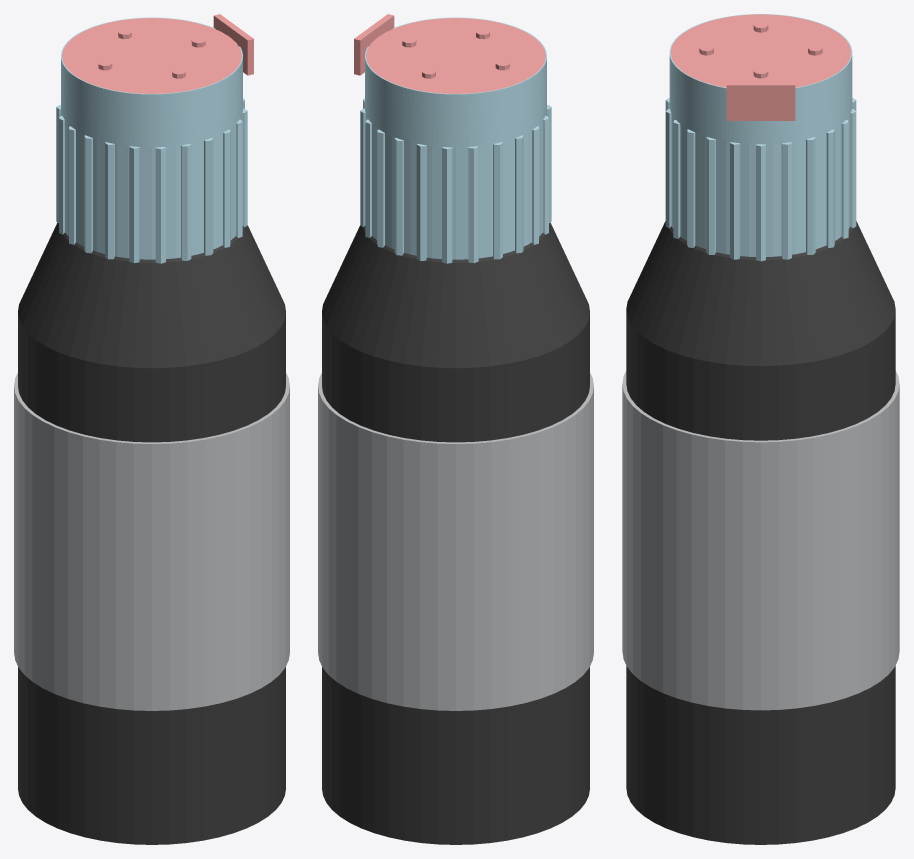
File: Container_Pump__0006.glb
3 renders of one model, left to right at view 1: azimuth 30°, elevation 25°; view 2: azimuth 150°, elevation 25°; view 3: azimuth 270°, elevation 25°, orthographic.
Parts seen in each view (by area): view 1: bottle::bottle_shell, bottle::label_band, collar::collar_knurl, collar::collar_shell, disc::disc_tile, cap_base::cap_base_shell, cap_base::slot_marker; view 2: bottle::bottle_shell, bottle::label_band, collar::collar_knurl, collar::collar_shell, disc::disc_tile, cap_base::cap_base_shell, cap_base::slot_marker; view 3: bottle::bottle_shell, bottle::label_band, collar::collar_knurl, collar::collar_shell, disc::disc_tile, cap_base::cap_base_shell, cap_base::slot_marker.
Part boxes in pixels (x1,y1,x2,y2): bottle::bottle_shell: (18, 222, 285, 844); bottle::label_band: (14, 373, 289, 710); collar::collar_knurl: (56, 98, 247, 263); collar::collar_shell: (61, 111, 242, 259); disc::disc_tile: (62, 18, 241, 93); cap_base::cap_base_shell: (61, 17, 242, 147); cap_base::slot_marker: (213, 14, 253, 75); bottle::bottle_shell: (322, 222, 589, 844); bottle::label_band: (318, 373, 593, 710); collar::collar_knurl: (360, 98, 551, 263); collar::collar_shell: (365, 111, 546, 259); disc::disc_tile: (366, 18, 545, 93); cap_base::cap_base_shell: (365, 17, 546, 147); cap_base::slot_marker: (354, 14, 394, 75); bottle::bottle_shell: (626, 221, 895, 844); bottle::label_band: (622, 371, 899, 710); collar::collar_knurl: (665, 98, 856, 261); collar::collar_shell: (669, 108, 852, 256); disc::disc_tile: (670, 14, 851, 87); cap_base::cap_base_shell: (669, 14, 852, 144); cap_base::slot_marker: (726, 82, 795, 120).
Bounding box in the file's own units: 0.0568 × 0.1722 × 0.0568.
4 materials, 1 textured.
